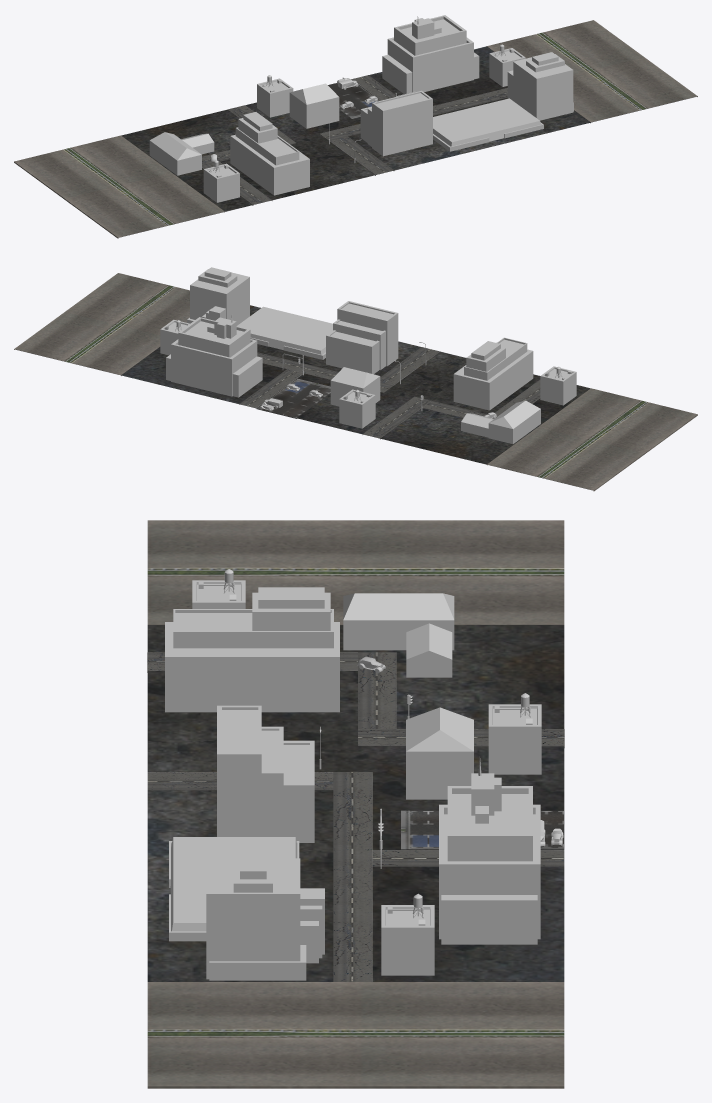
Rendered from Block_16.fbx.
The picture shows the model from 3 angles, top to bottom: view 1: azimuth 30°, elevation 25°; view 2: azimuth 150°, elevation 25°; view 3: azimuth 270°, elevation 25°; orthographic projection. The views are drawn at different scales.
Visible parts, largest first — view 1: pasted__polySurface1350; view 2: pasted__polySurface1350; view 3: pasted__polySurface1350.
Part boxes in pixels (<box>): pasted__polySurface1350: <box>14,15,697,238</box>; pasted__polySurface1350: <box>14,267,697,491</box>; pasted__polySurface1350: <box>147,520,564,1088</box>.
Bounding box in the file's own units: 459 × 143 × 54.43.
